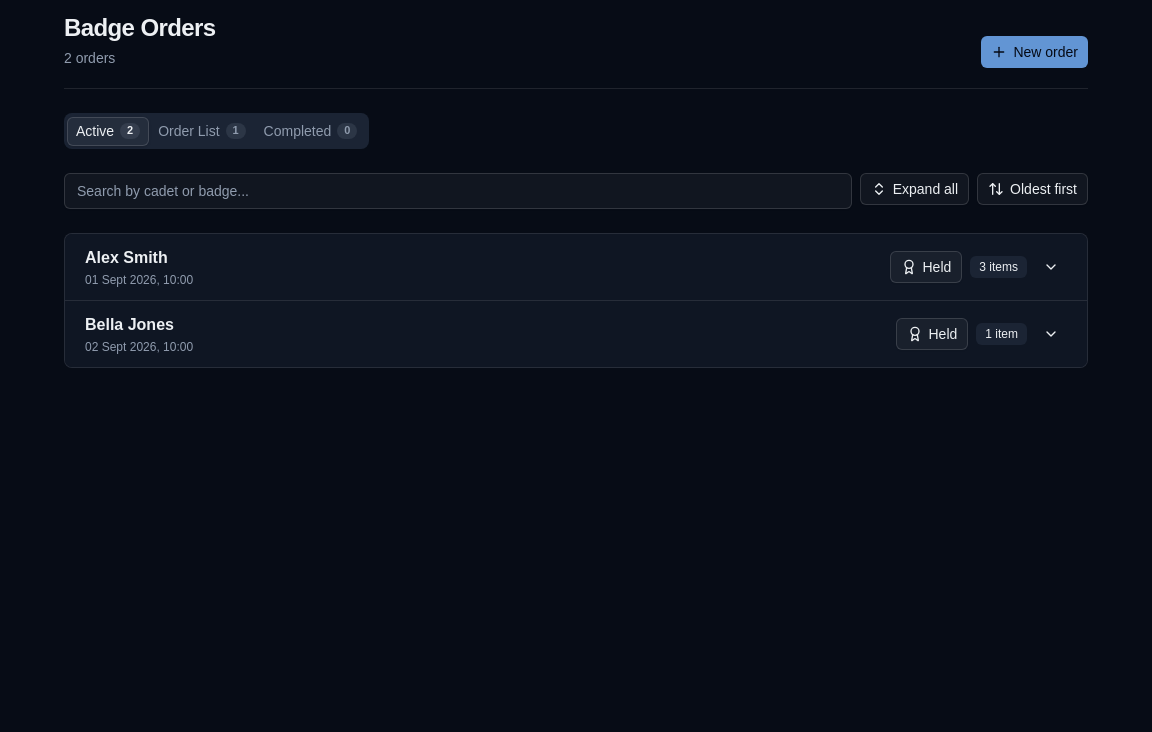
Scenario: the order list › an entry links back to the badge on its order, opening it
The width and height of the screenshot is (1152, 732).
Expected: the link "Alex Smith" is shown, [85,246,168,270]
Click the tab "Order List 1": x=202, y=131 [149,116,255,146]
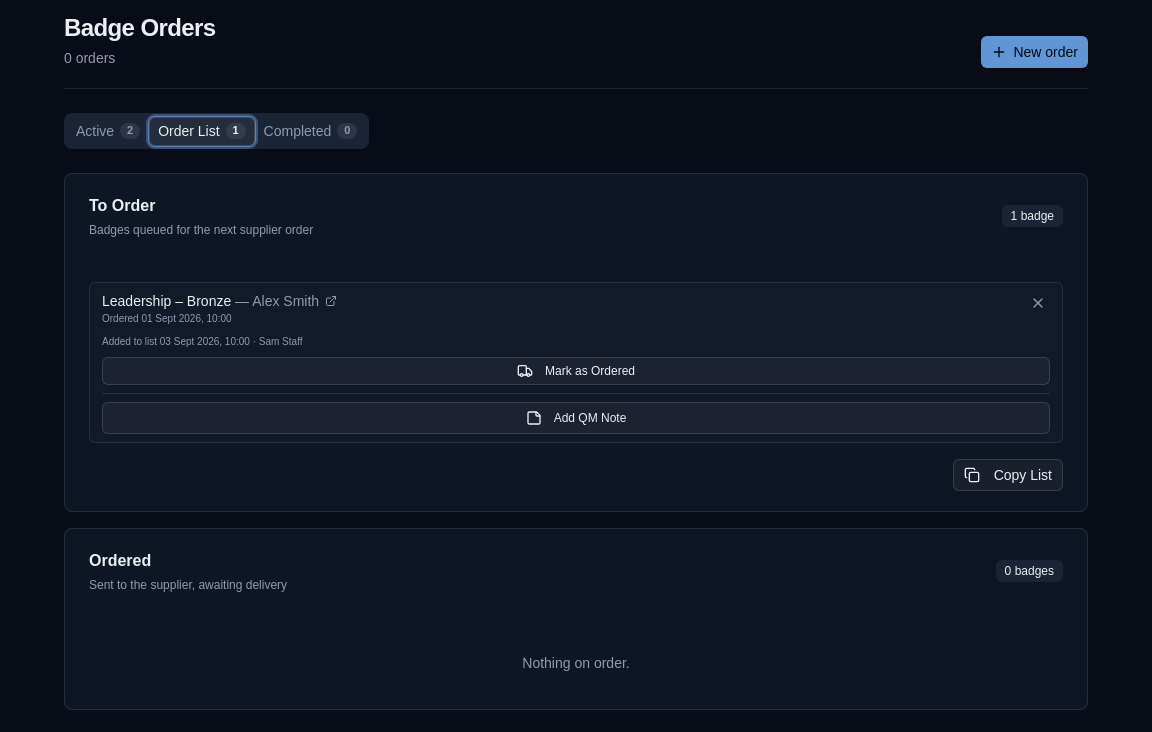
Click the button titled "Go to Alex Smith's order": x=167, y=301 [102,291,1018,326]
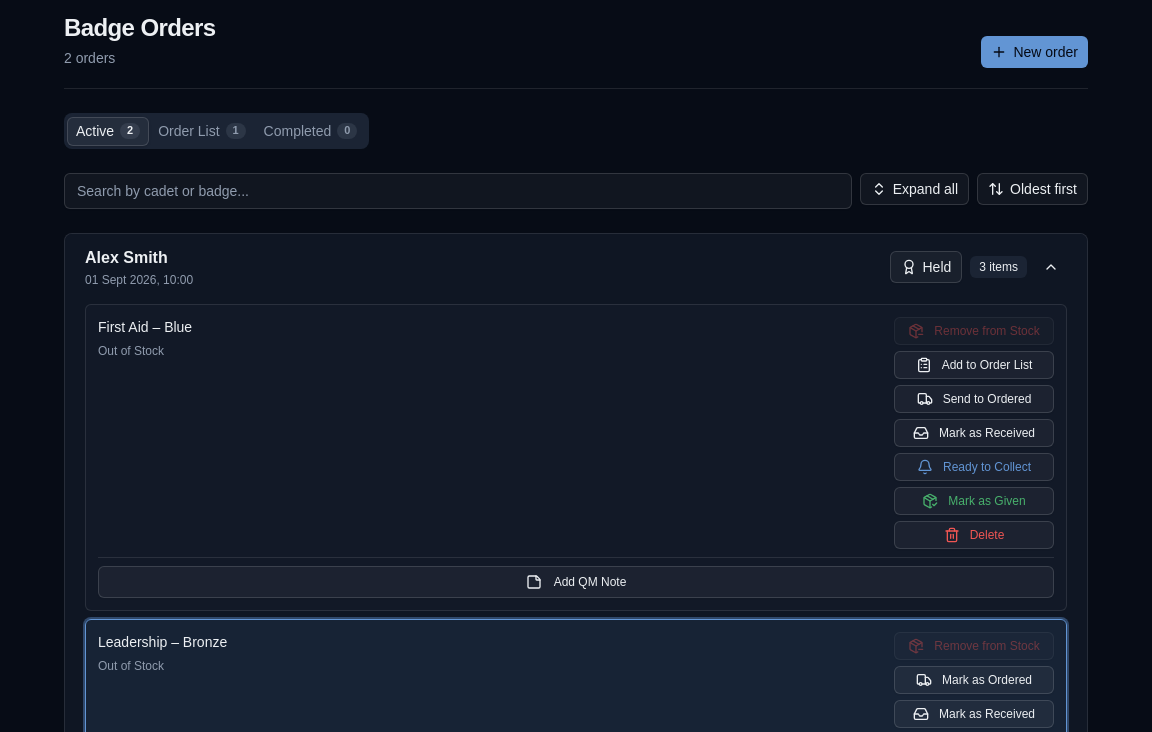
Expected: the button named "Collapse order for Alex Smith" is shown, [1035,251,1067,283]
